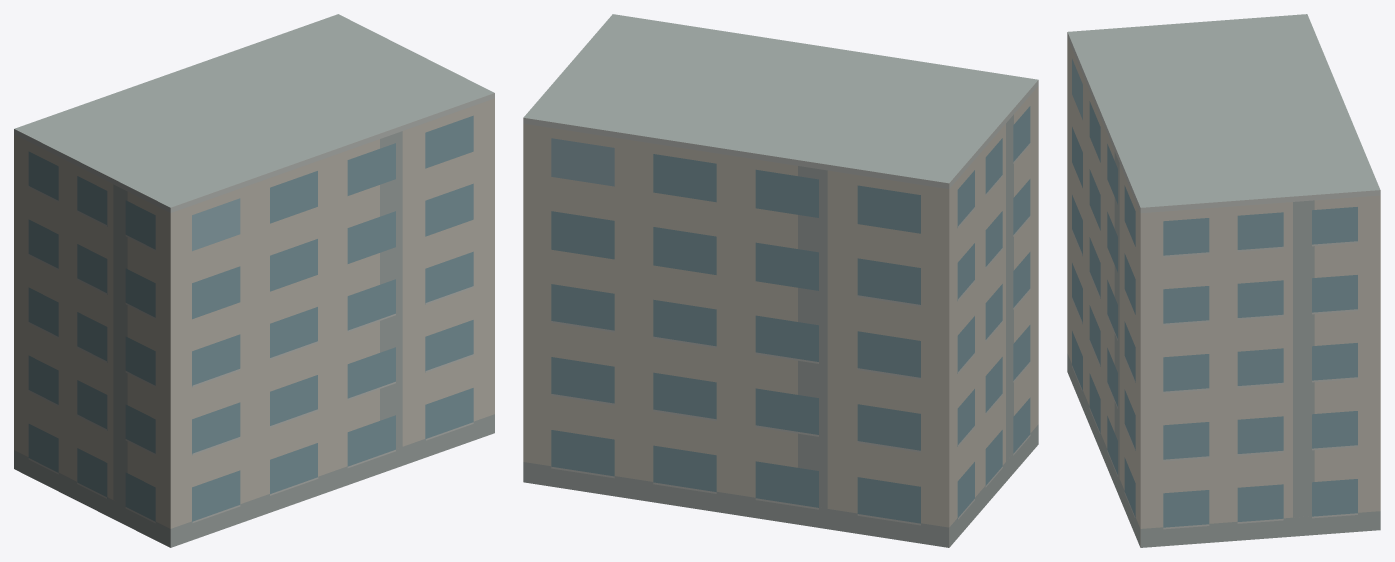
The model's file is residential-ce3515fc-2f3c-4ca4-87d8-7b21ac67d098.glb.
3 views of the same model, side by side, from view 1: azimuth 30°, elevation 25°; view 2: azimuth 150°, elevation 25°; view 3: azimuth 270°, elevation 25° (orthographic). The views are drawn at different scales.
Parts seen in each view (by area): view 1: residential-ce3515fc-2f3c-4ca4-87d8-7b21ac67d098.tmp; view 2: residential-ce3515fc-2f3c-4ca4-87d8-7b21ac67d098.tmp; view 3: residential-ce3515fc-2f3c-4ca4-87d8-7b21ac67d098.tmp.
Part boxes in pixels (box(x1,y1,x2,y2)): residential-ce3515fc-2f3c-4ca4-87d8-7b21ac67d098.tmp: box(14, 14, 494, 547); residential-ce3515fc-2f3c-4ca4-87d8-7b21ac67d098.tmp: box(523, 14, 1038, 547); residential-ce3515fc-2f3c-4ca4-87d8-7b21ac67d098.tmp: box(1067, 14, 1380, 547).
Size of the model in its own units: 18.65 by 15.25 by 12.74.
